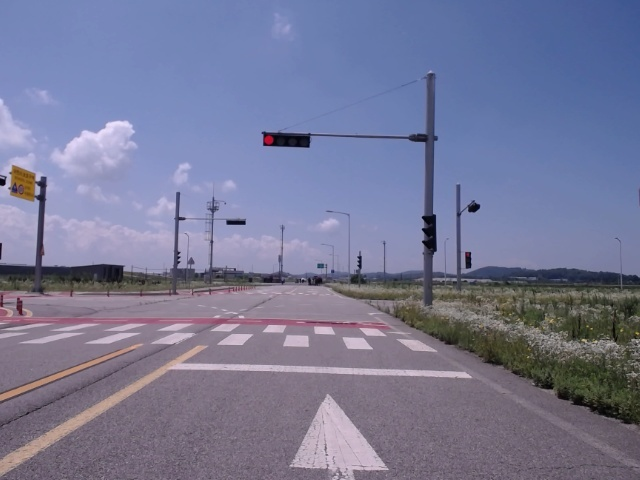red_4: (263, 134, 310, 147)
